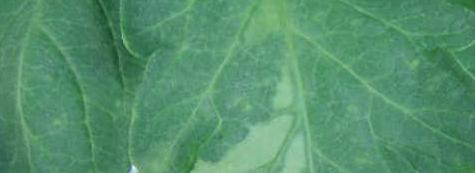Tomato leaf bacterial spot: (117, 0, 475, 173)
